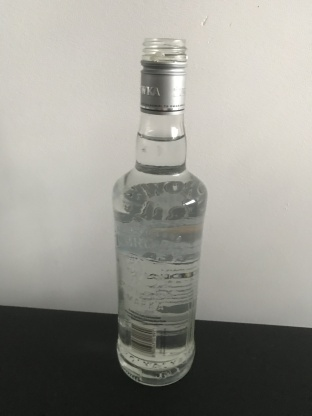nakretka: (138, 35, 188, 116)
